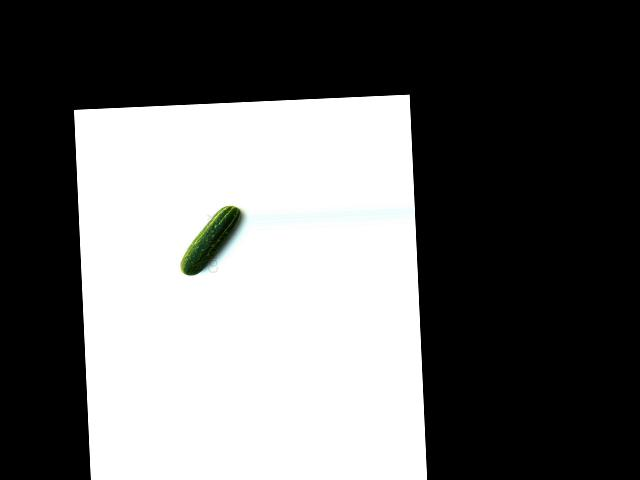cucumber: (177, 204, 243, 275)
